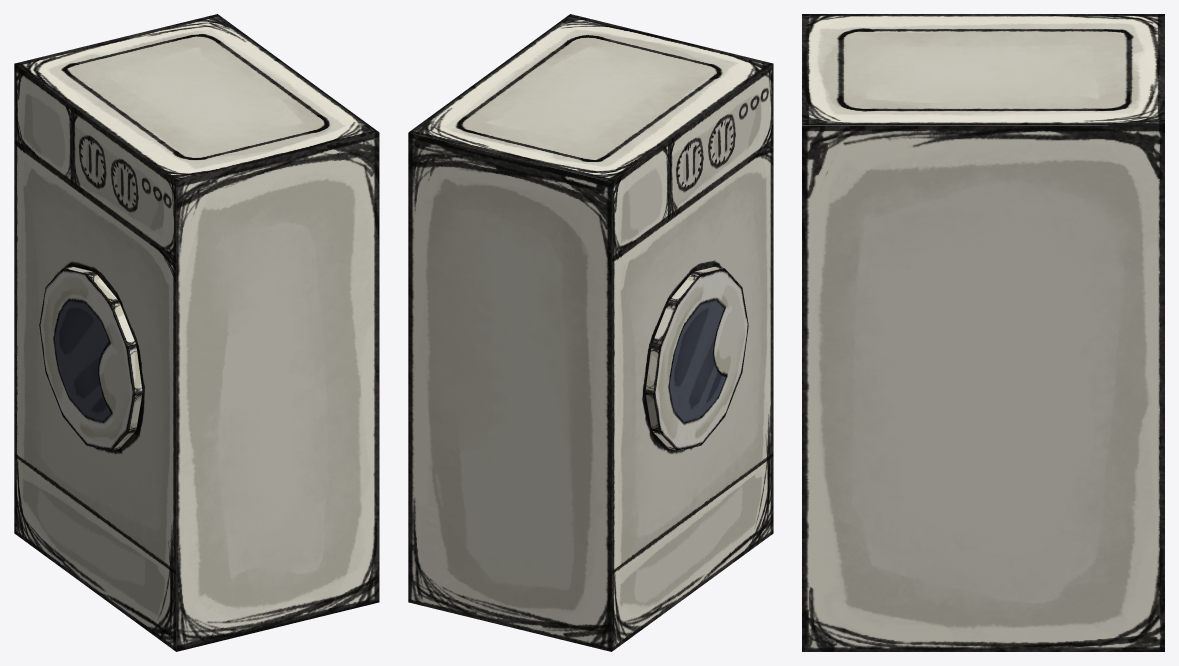
Rendered from washing_machine.fbx.
3 renders of one model, left to right at view 1: azimuth 30°, elevation 25°; view 2: azimuth 150°, elevation 25°; view 3: azimuth 270°, elevation 25°, orthographic. The views are drawn at different scales.
Parts seen in each view (by area): view 1: washing, washing_door; view 2: washing, washing_door; view 3: washing.
Boxes of the visible parts, box(x1,y1,x2,y2) form: washing: box(14, 14, 379, 651); washing_door: box(39, 266, 142, 451); washing: box(408, 14, 773, 651); washing_door: box(645, 266, 748, 451); washing: box(802, 14, 1164, 651).
Size of the model in its own units: 0.6721 by 1.42 by 0.8883.
Materials: 2 (2 with a texture image).
